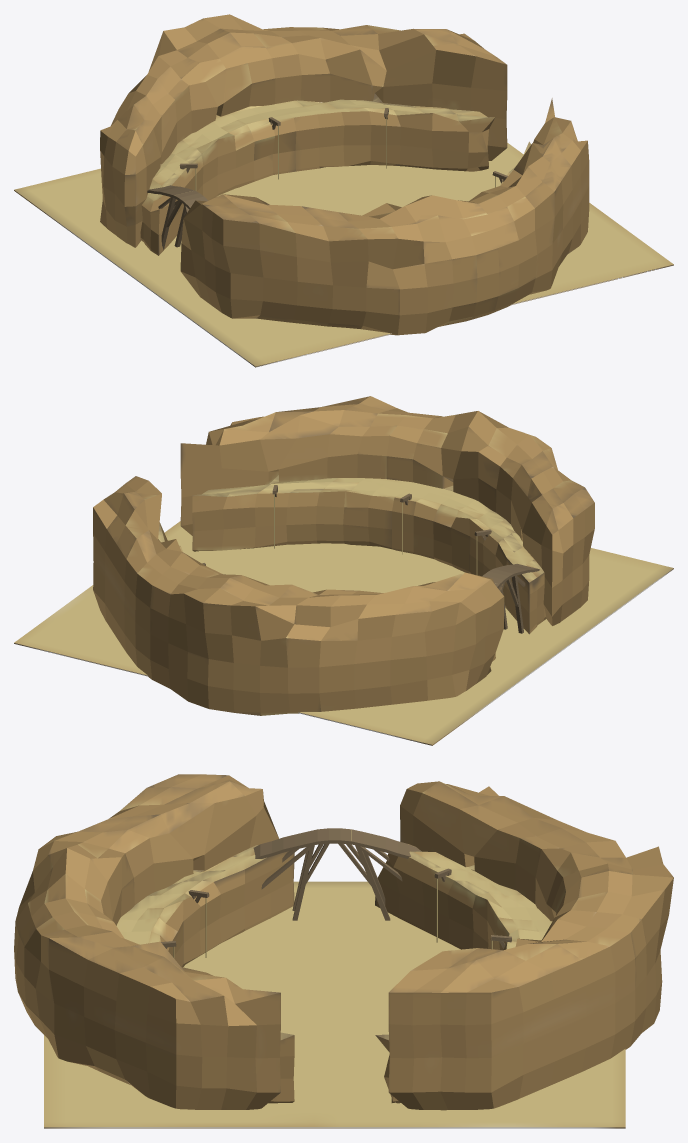
File: Level.fbx
The picture shows the model from 3 angles, top to bottom: view 1: azimuth 30°, elevation 25°; view 2: azimuth 150°, elevation 25°; view 3: azimuth 270°, elevation 25°; orthographic projection. The views are drawn at different scales.
Parts seen in each view (by area): view 1: Rockwalls, Ground, Bridge; view 2: Rockwalls, Ground, Bridge; view 3: Rockwalls, Ground, Bridge.
Part boxes in pixels (box(x1,y1,x2,y2)): Rockwalls: box(100, 14, 589, 335); Ground: box(14, 143, 673, 367); Bridge: box(147, 185, 208, 249); Rockwalls: box(93, 396, 594, 715); Ground: box(14, 521, 673, 745); Bridge: box(482, 563, 539, 633); Rockwalls: box(14, 774, 673, 1110); Ground: box(44, 881, 625, 1128); Bridge: box(253, 828, 421, 920).
Bounding box in the file's own units: 10161 × 3983 × 11535.
Materials: 4 (4 with a texture image).
